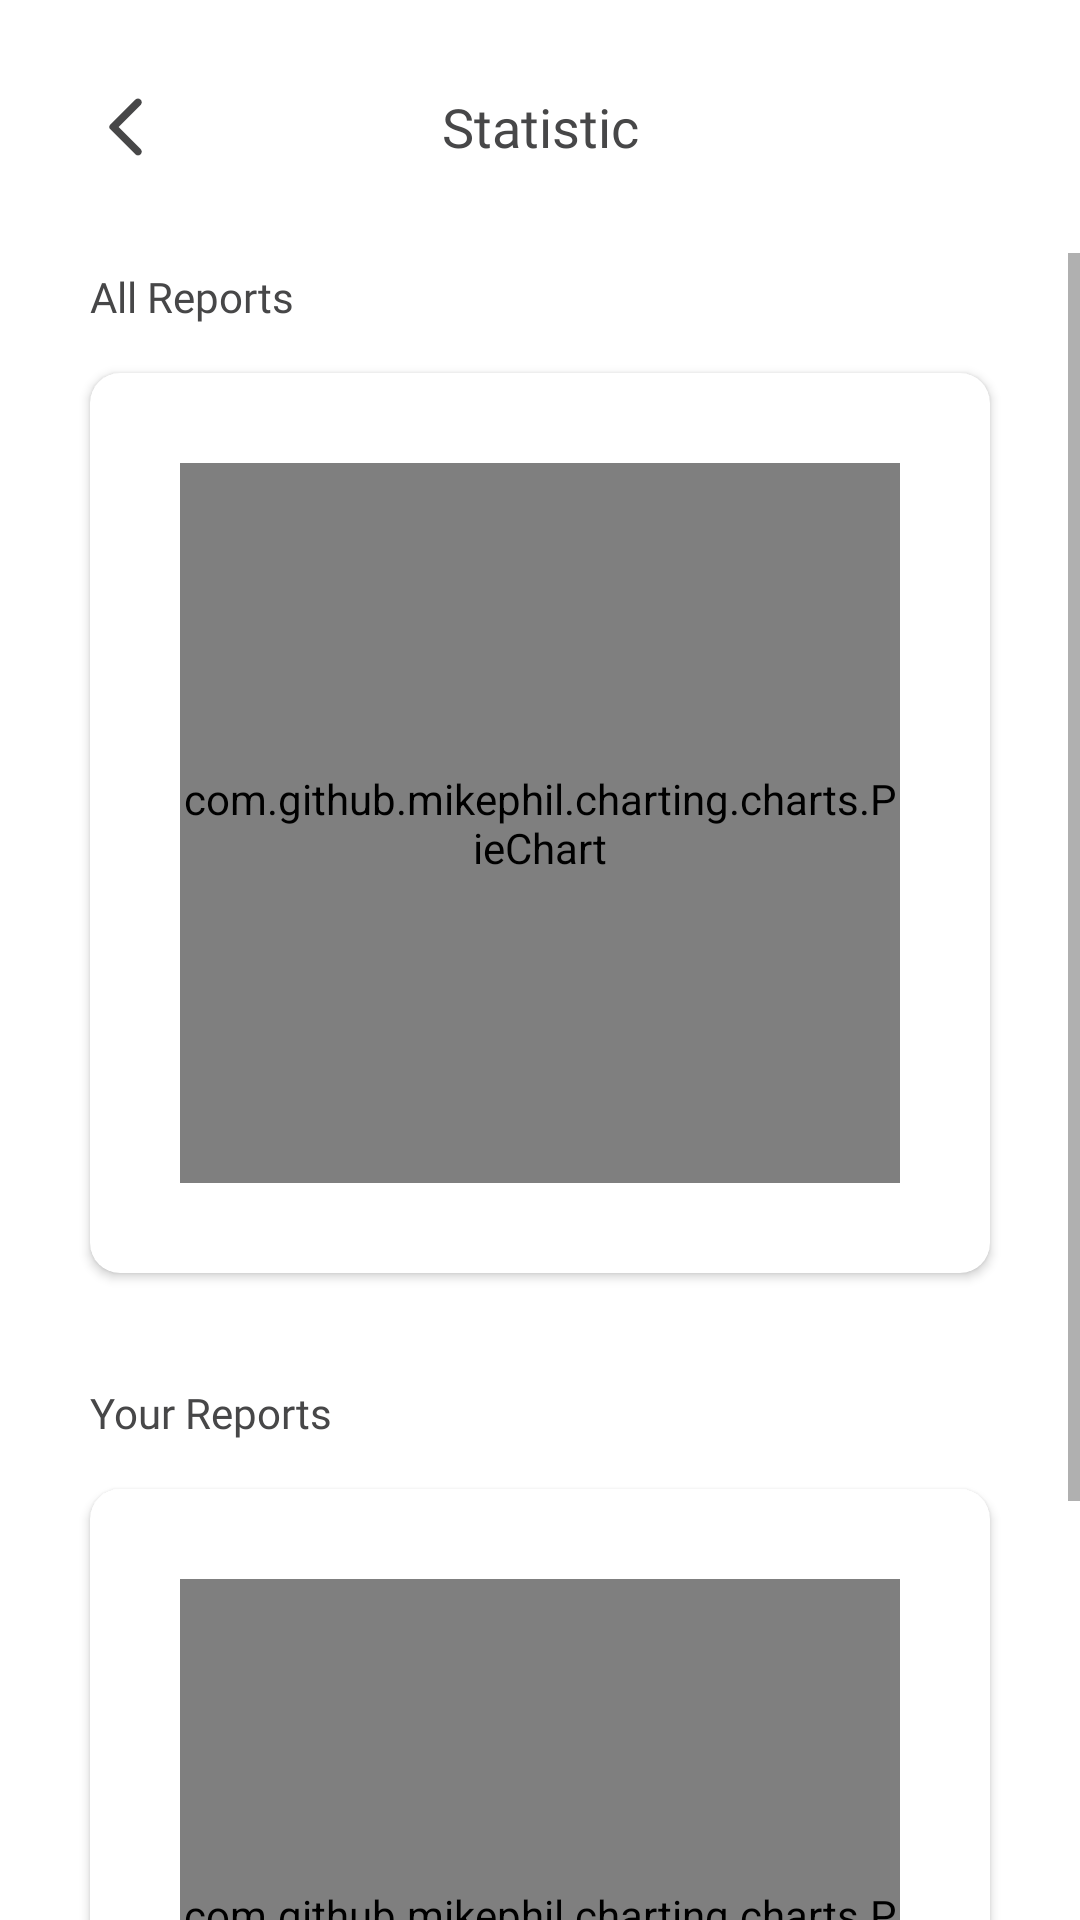

Named icons in this screenshot (1080 × 1920) and their centers, (x=x, y=y):
back: (x=125, y=127)
